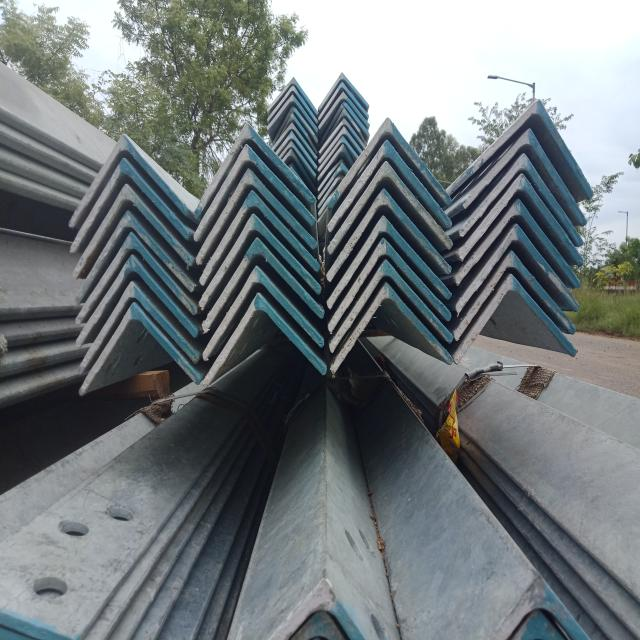metal-angles: (446, 98, 593, 199), (462, 128, 588, 227), (199, 212, 322, 312), (327, 160, 454, 256), (193, 122, 317, 220), (203, 292, 328, 388), (327, 215, 452, 311), (327, 187, 452, 283), (69, 156, 191, 254), (194, 144, 316, 242), (457, 172, 584, 266), (328, 138, 453, 233), (459, 152, 584, 247), (73, 183, 194, 281), (79, 300, 202, 396), (69, 132, 192, 228), (196, 168, 319, 264), (330, 258, 454, 353), (328, 237, 452, 332), (327, 116, 452, 210), (202, 265, 324, 361), (75, 253, 198, 348), (75, 231, 198, 326), (198, 190, 321, 285), (330, 280, 453, 375), (78, 280, 200, 375), (202, 237, 325, 331), (453, 197, 581, 287), (74, 210, 195, 305), (454, 249, 576, 342), (453, 273, 577, 364), (456, 224, 580, 315), (488, 573, 592, 640), (266, 575, 368, 640), (319, 101, 370, 145), (318, 71, 369, 112), (318, 91, 370, 130), (271, 105, 318, 148), (266, 77, 319, 115), (318, 81, 369, 120), (267, 85, 318, 124), (266, 94, 318, 132), (319, 117, 366, 154), (271, 122, 318, 159), (275, 130, 318, 170), (318, 126, 363, 164), (278, 113, 318, 154), (318, 135, 359, 172), (282, 149, 317, 191), (318, 143, 354, 181), (279, 140, 316, 176)
